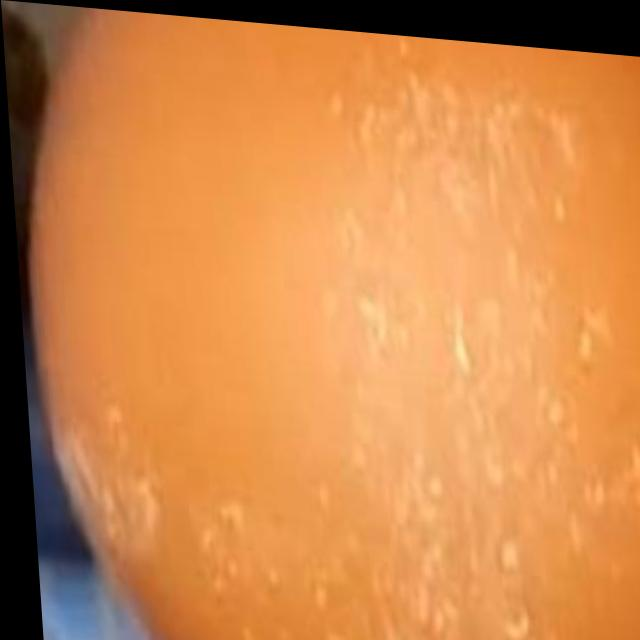unfresh: (43, 3, 640, 640)
